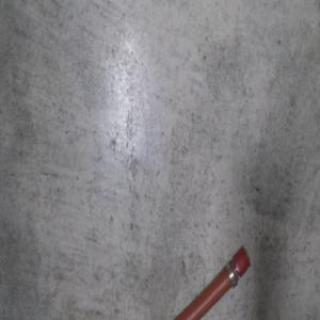Hosetrack_idkeyframe: (171, 241, 250, 319)
